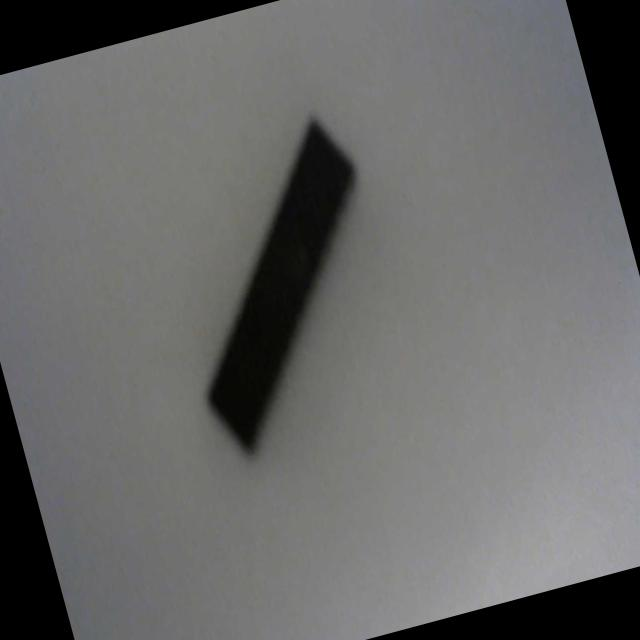atmega: (138, 102, 422, 464)
